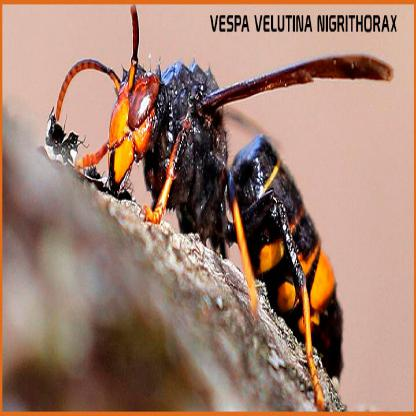asian: (38, 37, 394, 405)
